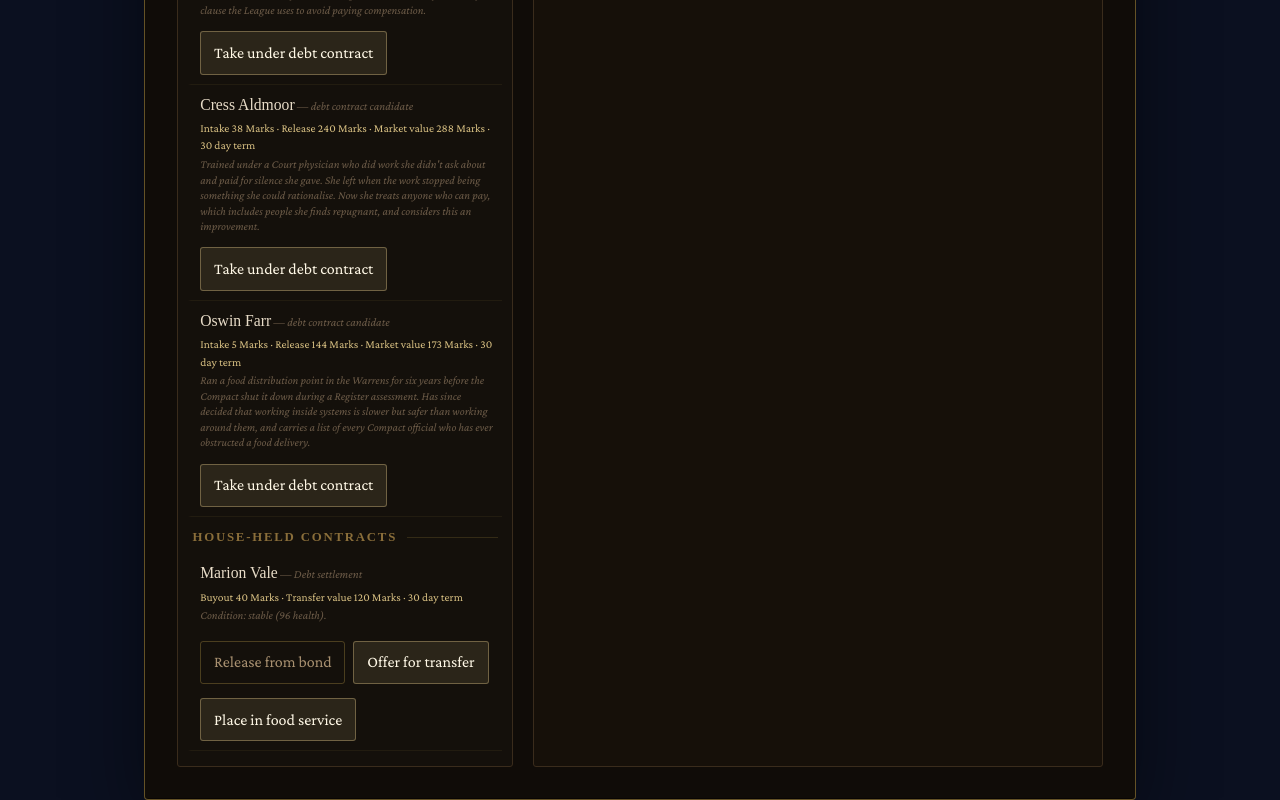
Scenario: BrokerageScreen › lets the player place a house-held bonded NPC into food service from the brokerage surface
(page scrolled)
Click the button "Place in food service": (278, 720) [200,698,356,741]
(page scrolled)
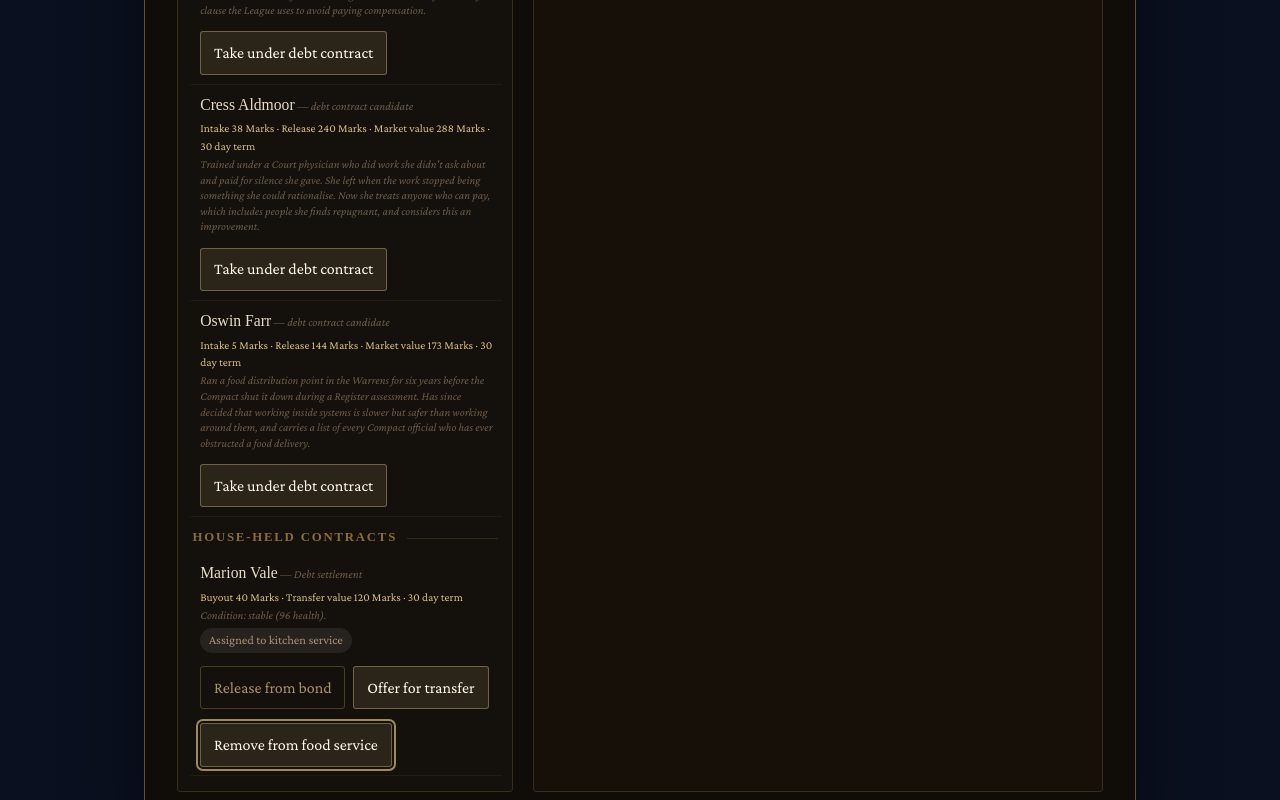
Now the button "Remove from food service" is shown, box [200,723,392,767]
